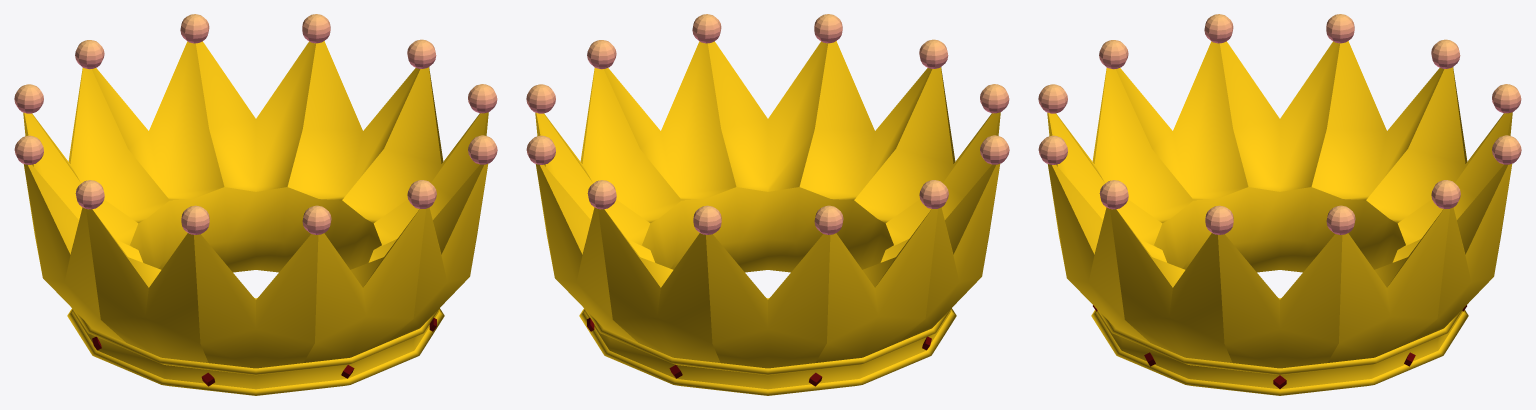
The model's file is Renai_Crown.fbx.
3 renders of one model, left to right at view 1: azimuth 30°, elevation 25°; view 2: azimuth 150°, elevation 25°; view 3: azimuth 270°, elevation 25°, orthographic.
Visible parts, largest first — view 1: You_dropped_this, pSphere15, pSphere24, pSphere18, pSphere14, pSphere19, pSphere21, pSphere22, pSphere16, pSphere20, pSphere13, pSphere17 (+1 smaller); view 2: You_dropped_this, pSphere23, pSphere20, pSphere14, pSphere22, pSphere15, pSphere17, pSphere18, pSphere16, pSphere24, pSphere13, pSphere21 (+1 smaller); view 3: You_dropped_this, pSphere19, pSphere16, pSphere22, pSphere18, pSphere13, pSphere23, pSphere14, pSphere20, pSphere24, pSphere17, pSphere21 (+1 smaller).
Part boxes in pixels (box(x1,y1,x2,y2)): You_dropped_this: box(23, 41, 488, 395); pSphere15: box(181, 205, 209, 234); pSphere24: box(14, 84, 43, 113); pSphere18: box(468, 135, 497, 164); pSphere14: box(75, 180, 104, 209); pSphere19: box(468, 84, 497, 113); pSphere21: box(302, 14, 330, 43); pSphere22: box(180, 14, 209, 43); pSphere16: box(302, 205, 331, 234); pSphere20: box(407, 39, 436, 68); pSphere13: box(14, 135, 43, 164); pSphere17: box(407, 180, 436, 208); You_dropped_this: box(535, 41, 1000, 395); pSphere23: box(693, 205, 721, 234); pSphere20: box(526, 84, 555, 113); pSphere14: box(980, 135, 1009, 164); pSphere22: box(587, 180, 616, 209); pSphere15: box(980, 84, 1009, 113); pSphere17: box(814, 14, 842, 43); pSphere18: box(692, 14, 721, 43); pSphere16: box(919, 39, 948, 68); pSphere24: box(814, 205, 843, 234); pSphere13: box(919, 180, 948, 208); pSphere21: box(526, 135, 555, 164); You_dropped_this: box(1047, 41, 1512, 395); pSphere19: box(1205, 205, 1233, 234); pSphere16: box(1038, 84, 1067, 113); pSphere22: box(1492, 135, 1521, 164); pSphere18: box(1099, 180, 1128, 209); pSphere13: box(1326, 14, 1354, 43); pSphere23: box(1492, 84, 1521, 113); pSphere14: box(1204, 14, 1233, 43); pSphere20: box(1326, 205, 1355, 234); pSphere24: box(1431, 39, 1460, 68); pSphere17: box(1038, 135, 1067, 164); pSphere21: box(1431, 180, 1460, 208).
Bounding box in the file's own units: 2.89 × 1.43 × 2.89.
